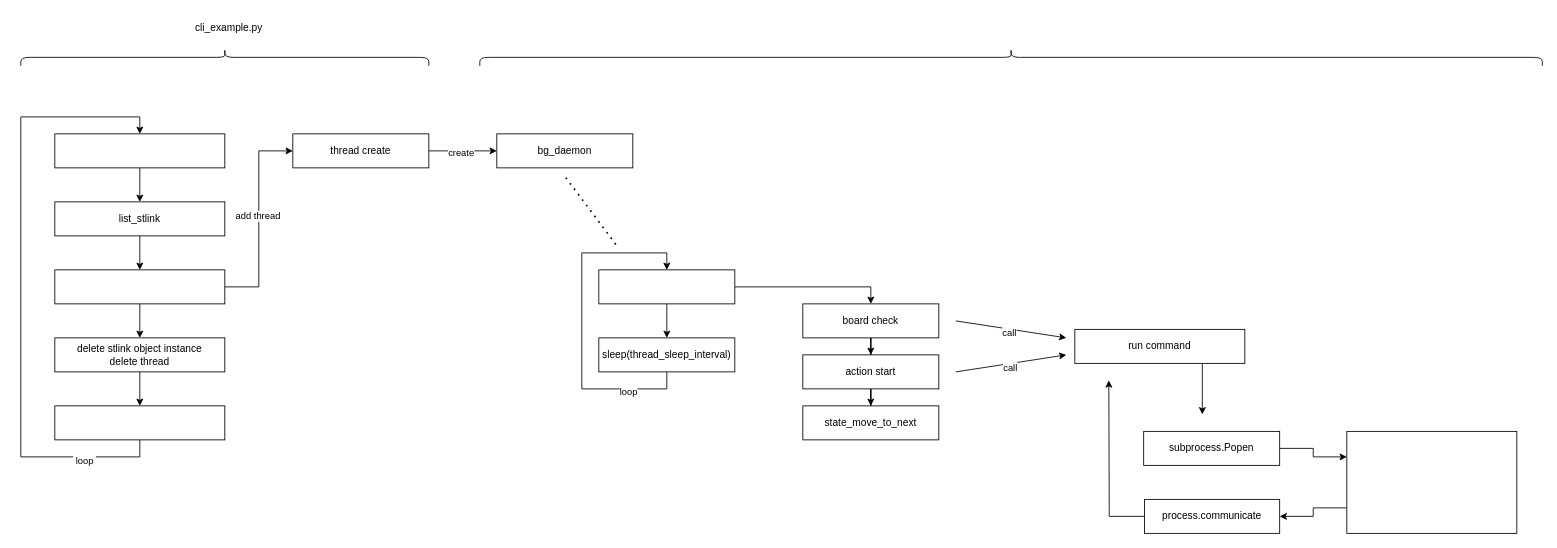
Some shapes in this 1557 by 548 pixel diagram are drawn without their labels. The box of each missing label's shape, as (x1, y1, x2, y2) in pixels:
add stlink obj instance add thread: (54, 269, 225, 304)
do_next: (598, 269, 735, 304)
fw_flash: (479, 48, 1542, 66)
refresh cli ui: (54, 405, 225, 440)
STM32_Programmer_CLI.exe: (1346, 431, 1517, 533)
wait command input (getch): (54, 133, 225, 168)
